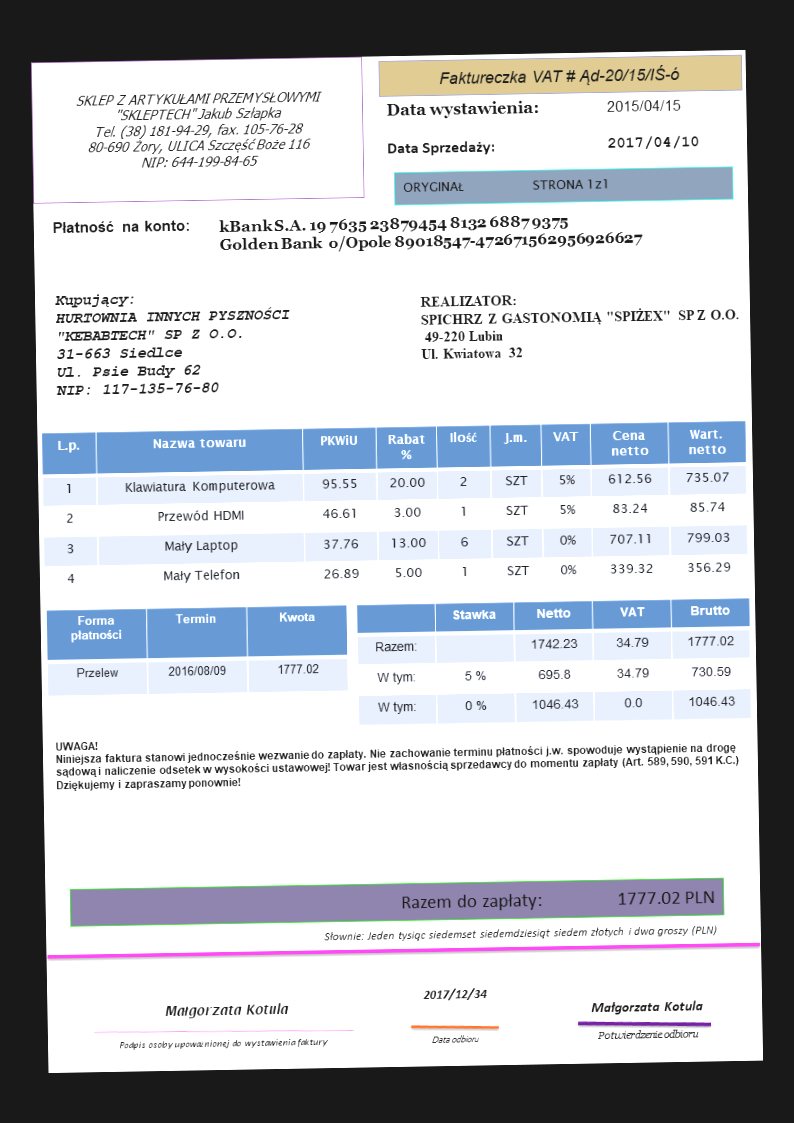Table: (39, 417, 750, 600), (353, 595, 753, 728), (45, 603, 350, 697)
TextBox: (52, 724, 743, 795), (49, 286, 294, 399), (416, 286, 744, 364), (72, 82, 326, 176), (215, 207, 646, 255), (396, 882, 716, 913), (321, 921, 723, 945), (434, 61, 686, 88), (400, 173, 611, 198), (113, 1034, 332, 1053), (383, 94, 543, 120), (46, 215, 194, 240), (162, 995, 292, 1022), (381, 135, 502, 160), (585, 995, 708, 1017), (604, 129, 703, 153), (601, 92, 683, 118), (591, 1026, 702, 1044), (420, 984, 489, 1004), (428, 1031, 483, 1049)
